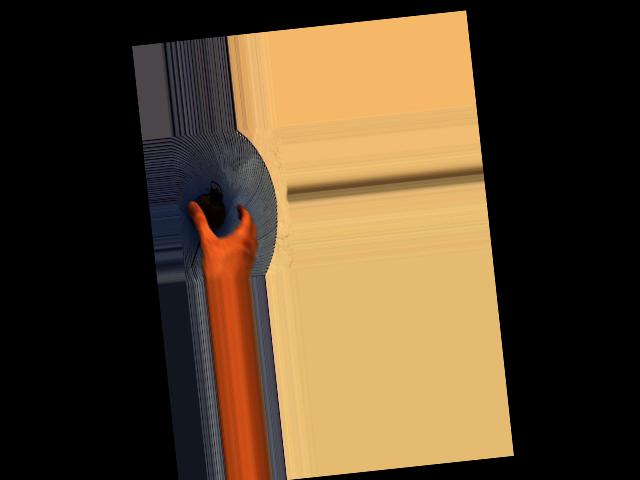beet: (181, 179, 230, 267)
